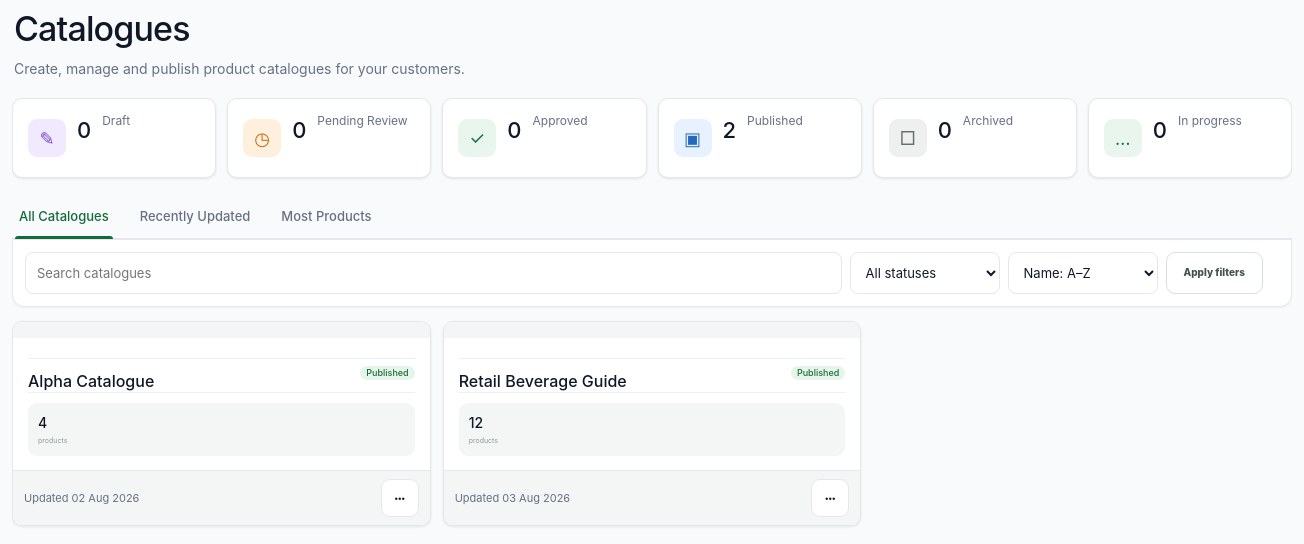
CatalogueManagement preview action › filters catalogue cards immediately as the search is typed
Expected: the heading "Retail Beverage Guide" is shown, 459,371 -> 627,392
Expected: the heading "Alpha Catalogue" is shown, 28,371 -> 154,392
In the search field with placeholder "Search catalogues": {"x": 433, "y": 273} 25,252 -> 842,294, type "alpha"
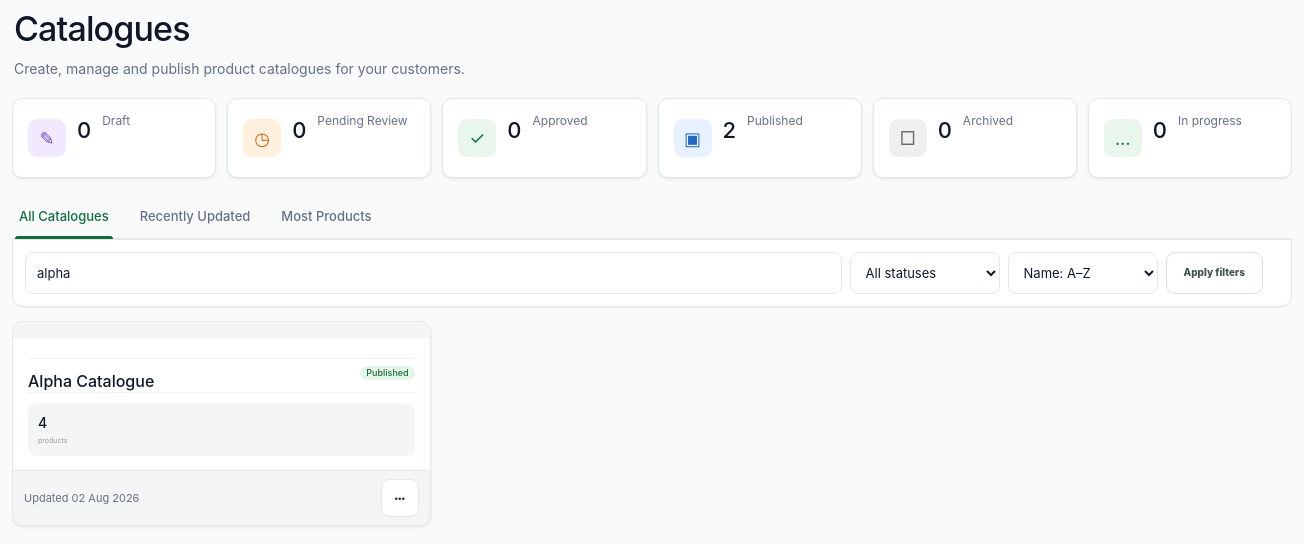
Expected: the heading "Alpha Catalogue" is shown, 28,371 -> 154,392
Now the heading "Retail Beverage Guide" is gone
